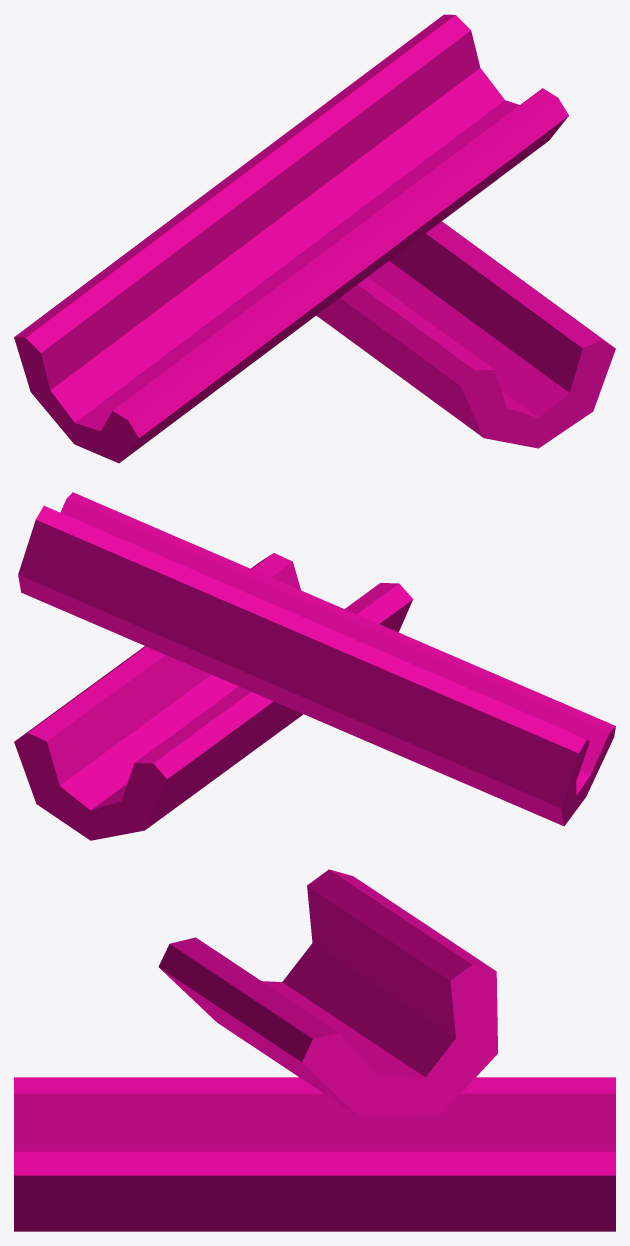
File: Celery_01.fbx
3 views of the same model, one above another, from view 1: azimuth 30°, elevation 25°; view 2: azimuth 150°, elevation 25°; view 3: azimuth 270°, elevation 25° (orthographic). The views are drawn at different scales.
Visible parts, largest first — view 1: Celery_01; view 2: Celery_01; view 3: Celery_01.
Boxes of the visible parts, bbox=[...] form: Celery_01: bbox=[14, 14, 615, 463]; Celery_01: bbox=[14, 492, 615, 840]; Celery_01: bbox=[14, 869, 615, 1231].
Bounding box in the file's own units: 11.22 × 5.36 × 8.97.
